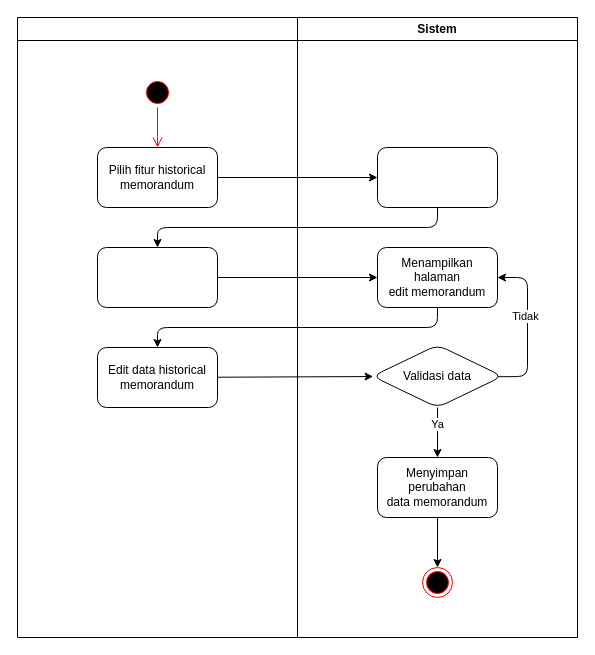
The diagram is 595 pixels wide and 655 high, and some of its shapes have lost their labels. Here are the shapes that lost their labels. From the top down, the box of each, then its label:
(376, 146, 498, 208): Menampilkan halaman historical memorandum
(96, 246, 218, 308): Pilih salah satu tombol edit pada kolom aksi (icon pen)
(16, 16, 298, 638): User
